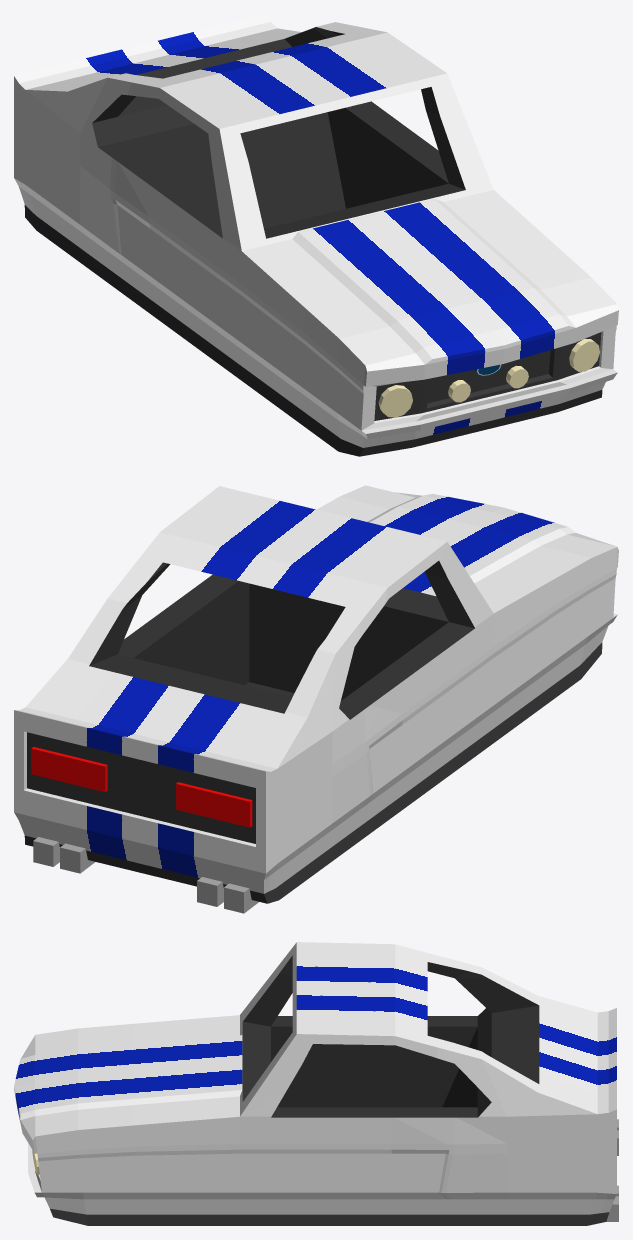
Rendered from Mustang.fbx.
3 renders of one model, top to bottom at view 1: azimuth 30°, elevation 25°; view 2: azimuth 150°, elevation 25°; view 3: azimuth 270°, elevation 25°, orthographic. The views are drawn at different scales.
Parts seen in each view (by area): view 1: Cube; view 2: Cube; view 3: Cube.
Part boxes in pixels (x1=…): Cube: x1=14, y1=14, x2=618, y2=456; Cube: x1=14, y1=485, x2=618, y2=913; Cube: x1=14, y1=942, x2=618, y2=1225.
Bounding box in the file's own units: 250 × 216 × 618.
